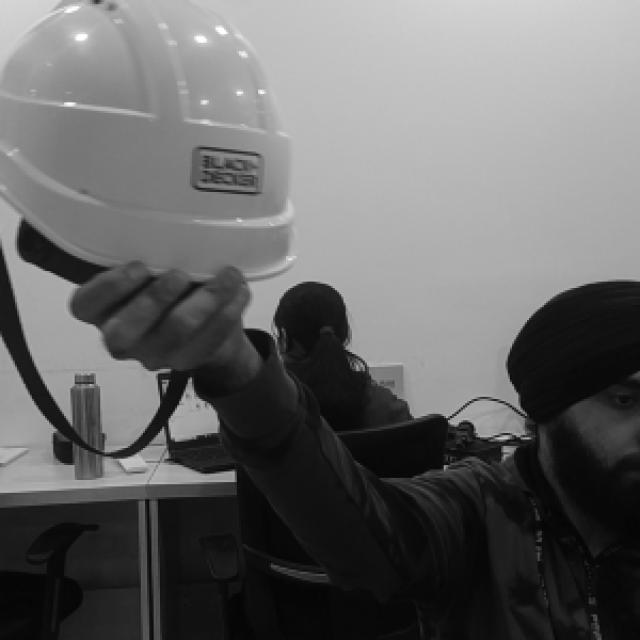safety_helmet: (0, 2, 297, 280)
